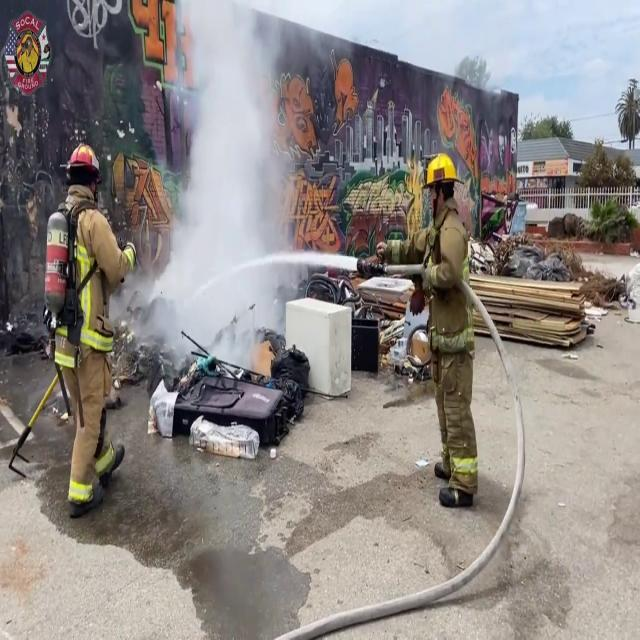Smoke: (136, 1, 306, 370)
